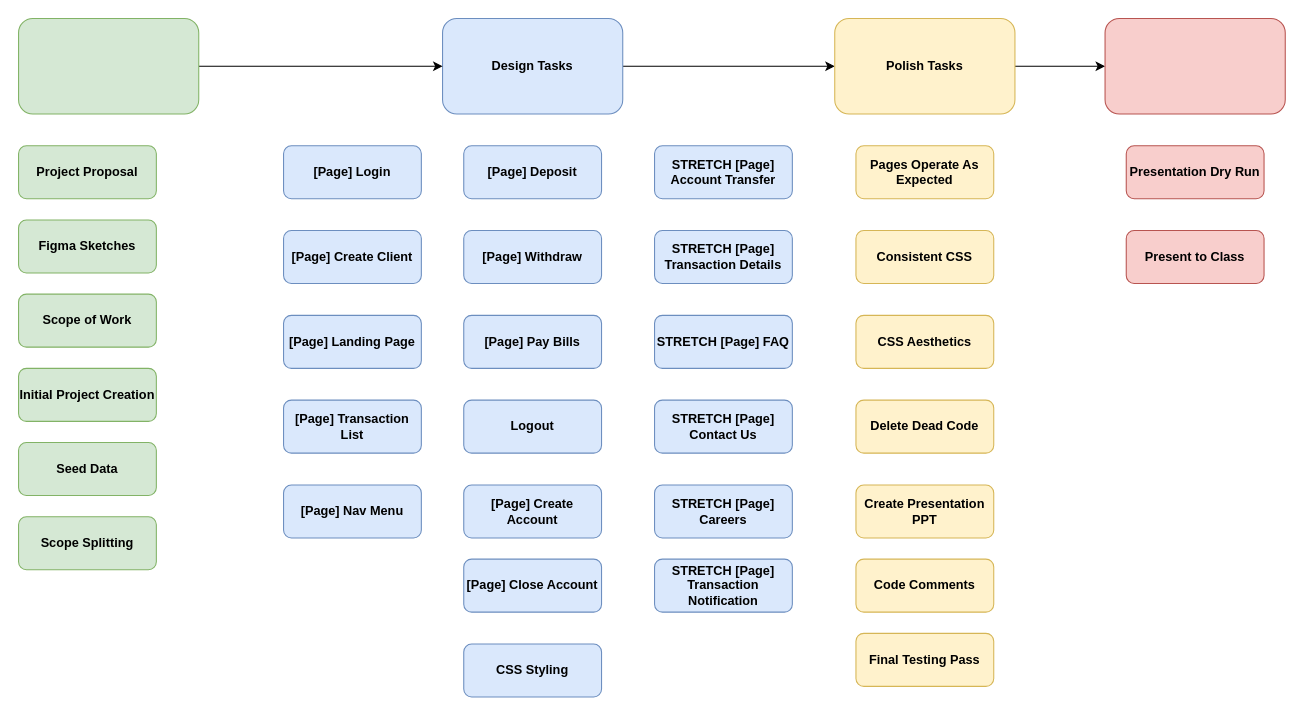
The diagram is 1304 pixels wide and 715 high, and some of its shapes have lost their labels. The shapes that lost their labels are listed below. From the top down, each one's centre as x and y in pixels, then its label:
At pixel 108 65: "Planning Tasks".
At pixel 1194 65: "Presentation Tasks".
